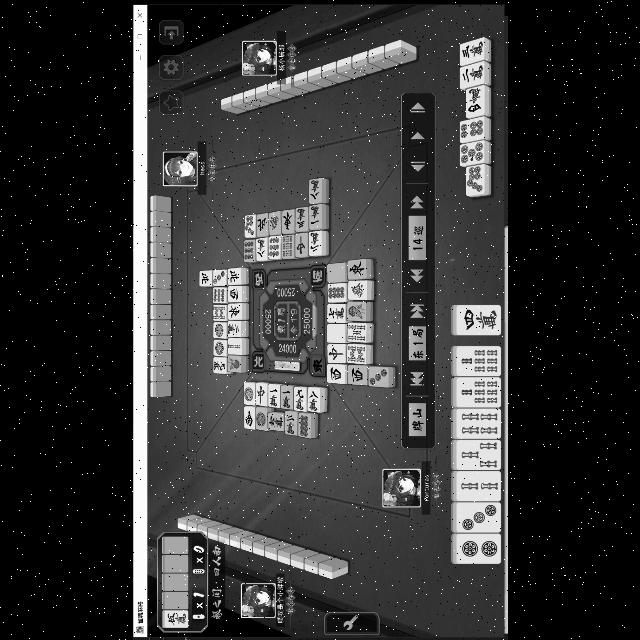1m: (308, 203, 322, 229), (266, 383, 280, 407), (281, 384, 293, 410)
1p: (255, 406, 268, 430), (242, 381, 254, 404), (212, 320, 226, 338), (212, 338, 226, 354)
1s: (347, 301, 368, 319), (226, 354, 242, 372)
2m: (458, 59, 484, 87), (308, 230, 322, 258), (284, 410, 296, 436), (225, 319, 242, 335)
2p: (456, 533, 500, 563)
2s: (458, 470, 500, 500), (226, 336, 242, 354)
3m: (459, 34, 485, 64), (294, 206, 308, 230)
3p: (456, 502, 500, 532), (368, 366, 388, 386), (212, 267, 226, 285)
3s: (456, 439, 499, 468)
4m: (456, 306, 498, 332), (464, 85, 486, 115)
4s: (456, 409, 499, 436)
5m: (162, 608, 186, 628)
5p: (458, 138, 484, 164)
5s: (346, 323, 366, 341)
6m: (268, 412, 284, 431)
6p: (458, 118, 486, 140)
7m: (326, 302, 346, 322)
7p: (466, 163, 484, 195), (242, 213, 255, 237)
7s: (457, 376, 501, 406), (456, 345, 500, 375)
8m: (308, 175, 322, 203), (307, 386, 319, 412), (256, 238, 266, 260)
8p: (296, 412, 310, 438), (326, 283, 346, 301)
8s: (345, 343, 367, 362), (210, 304, 226, 320)
9m: (292, 386, 306, 410), (212, 356, 226, 374)
9p: (267, 234, 281, 260), (243, 238, 255, 262), (210, 286, 226, 302)
9s: (281, 232, 293, 260)
chun: (294, 230, 308, 258), (327, 343, 345, 362), (256, 382, 266, 406)
haku: (324, 323, 346, 341), (327, 261, 345, 283)
hatsu: (266, 208, 282, 234), (348, 280, 366, 300)
nan: (243, 406, 255, 428)
pe: (255, 212, 268, 236), (198, 268, 210, 286), (227, 267, 240, 283)
sha: (326, 363, 346, 382), (348, 366, 366, 382), (227, 285, 241, 301)
tou: (346, 257, 366, 279), (281, 208, 295, 232), (227, 303, 243, 319)
